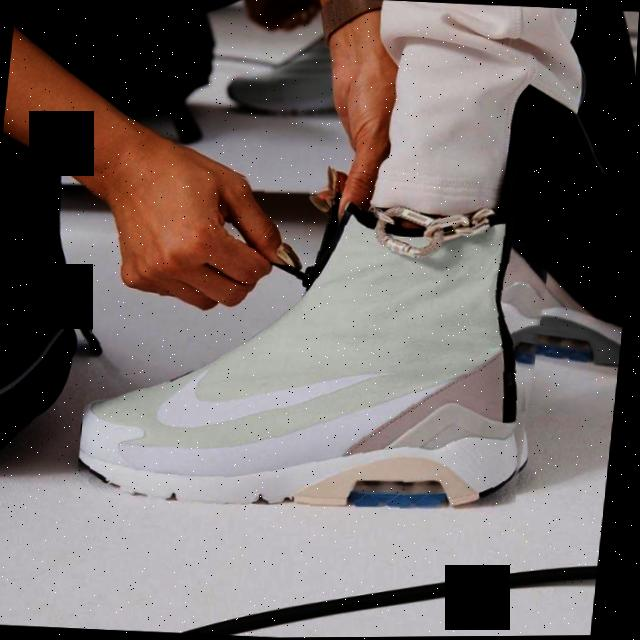shoe: (79, 166, 562, 520)
